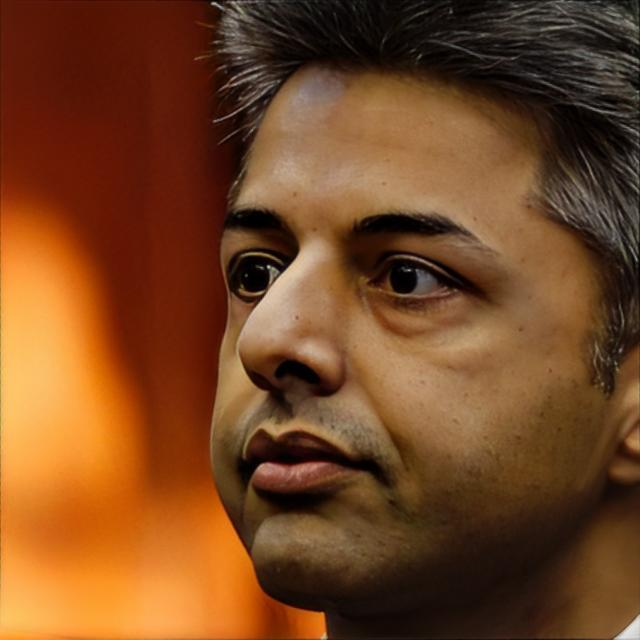neutral: (213, 47, 616, 617)
